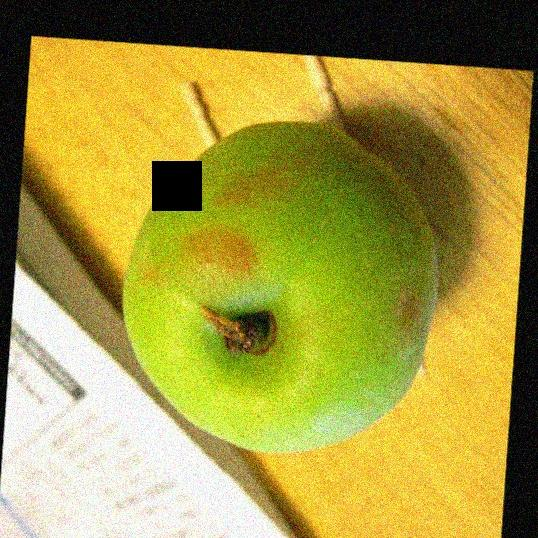green apple: (116, 116, 447, 456)
